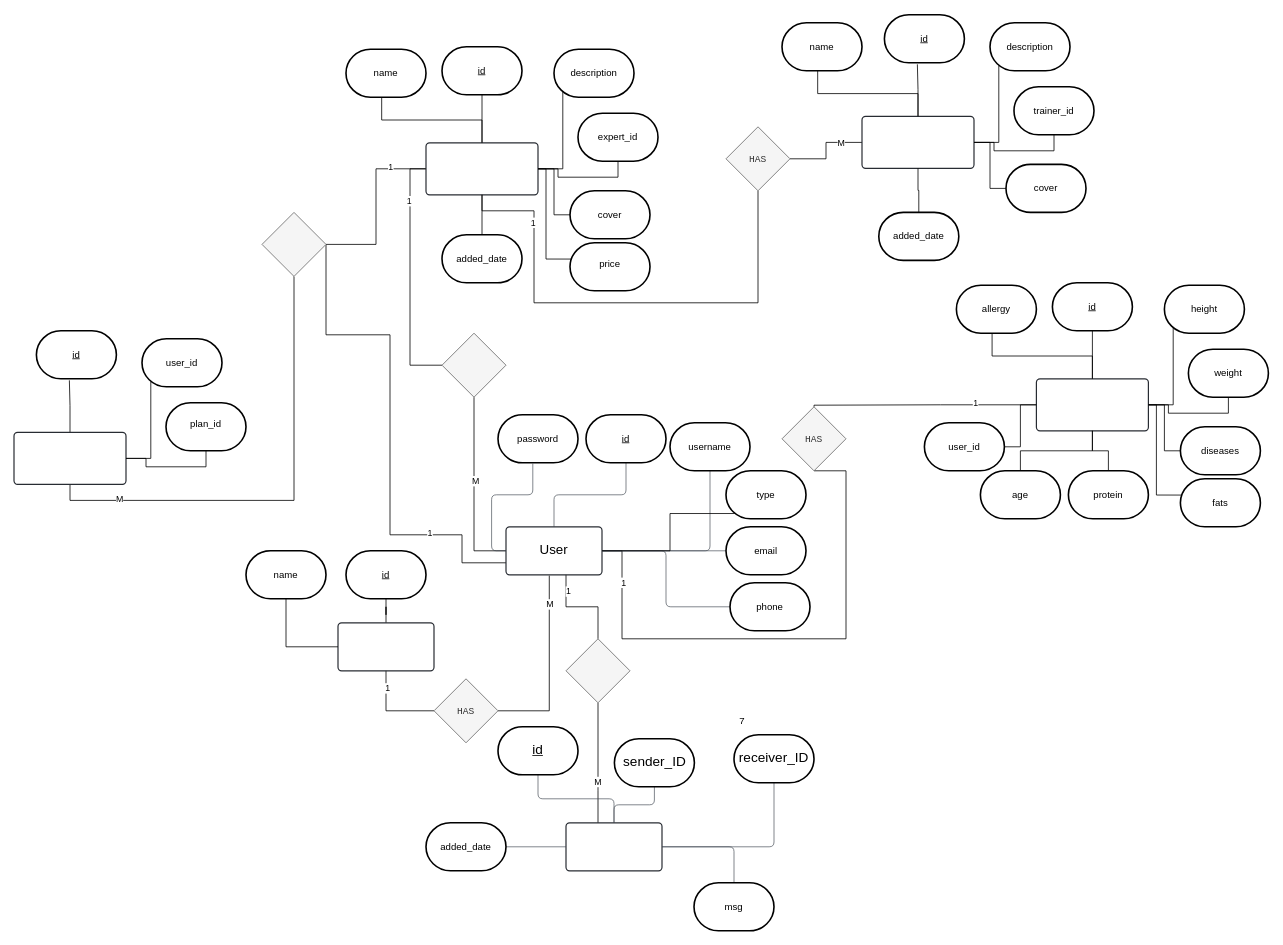
Image size: 1283x945. Some labels were removed from this diagram. The shapes that lost their labels are listed below. From the top down, each one's box as (x1, y1, x2, y2) in pixels, then its label:
(861, 115, 974, 169): exercises
(425, 142, 538, 195): plans
(261, 212, 326, 276): Order
(441, 332, 506, 397): CREATES
(1035, 378, 1149, 431): usersSpecification
(13, 431, 126, 485): orders
(337, 622, 434, 671): Role
(565, 638, 630, 703): SENDS
(565, 822, 662, 871): chat
